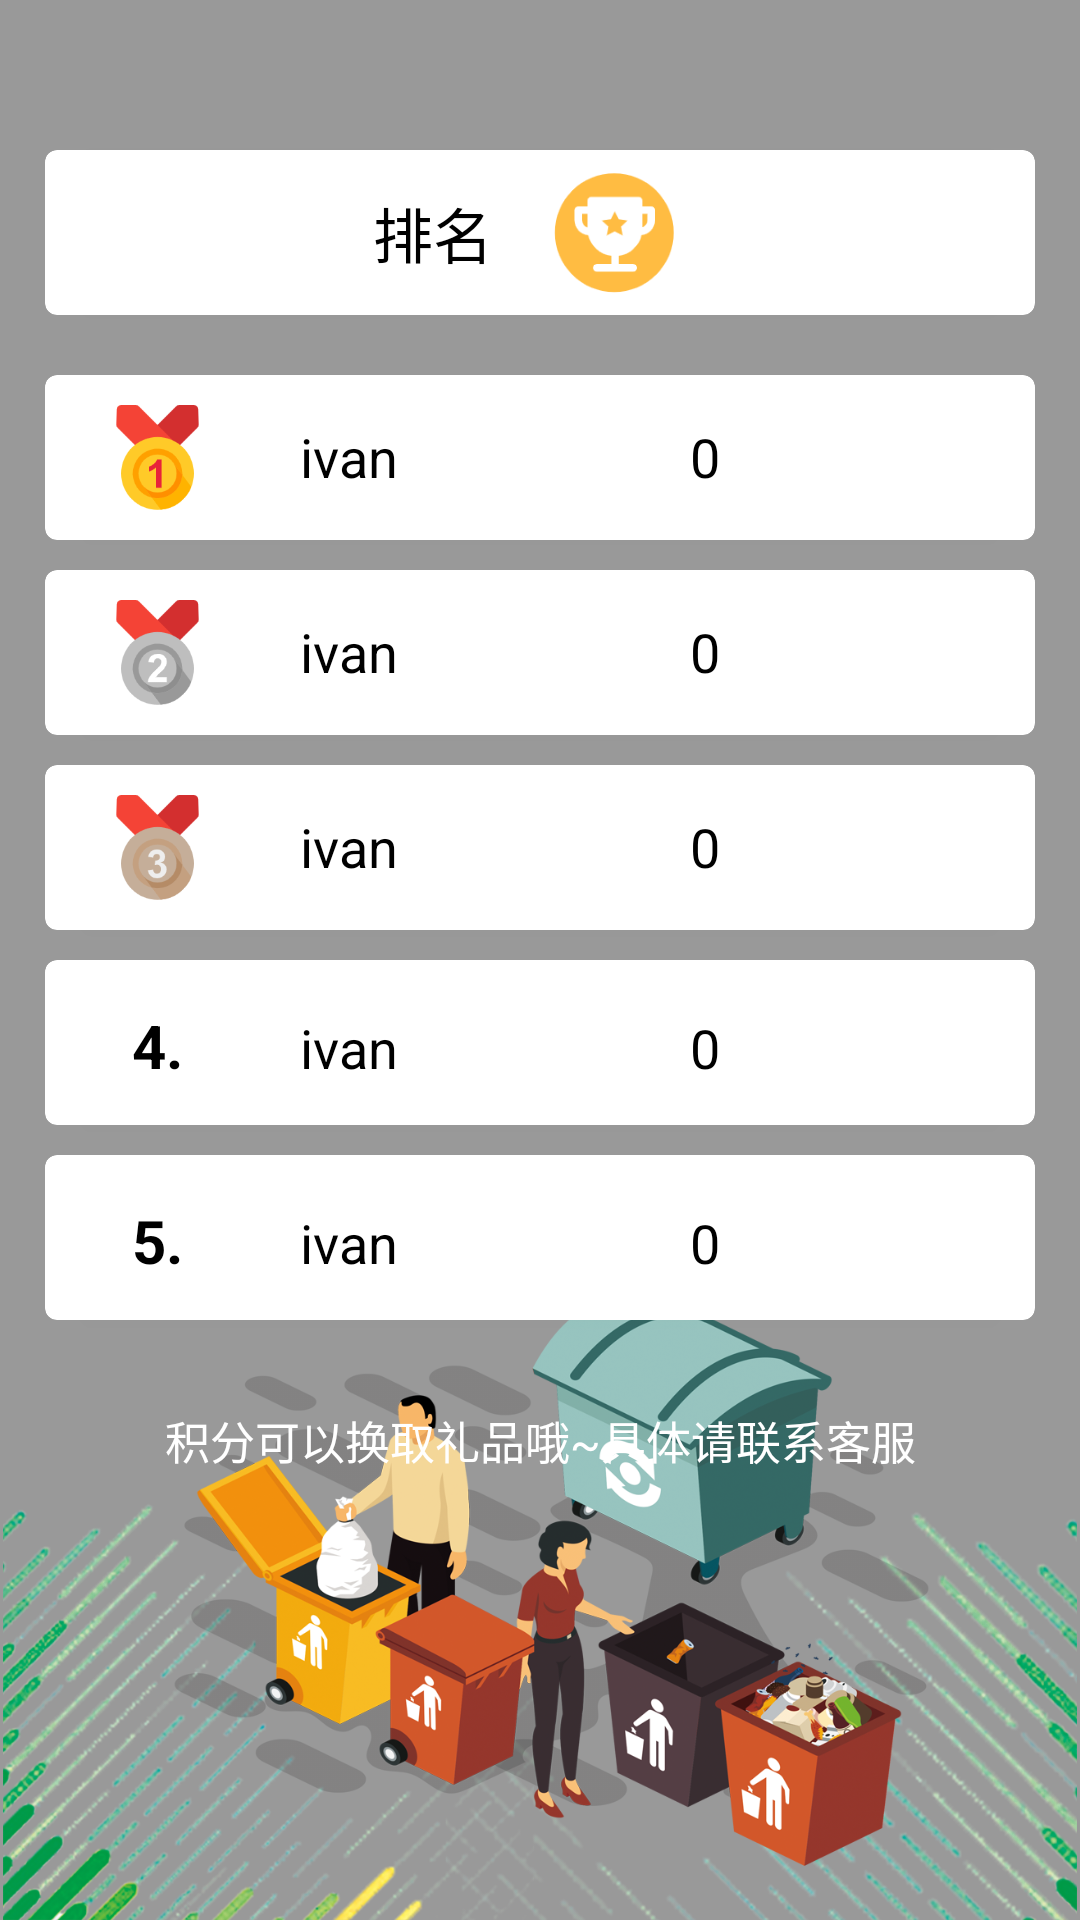

Screen size 1080w x 1920h. Icon name, then its box in pixels as (x1, y1, x2, y2):
rank: (554, 173, 674, 293), (116, 405, 199, 510), (116, 600, 199, 705), (116, 795, 199, 900)
